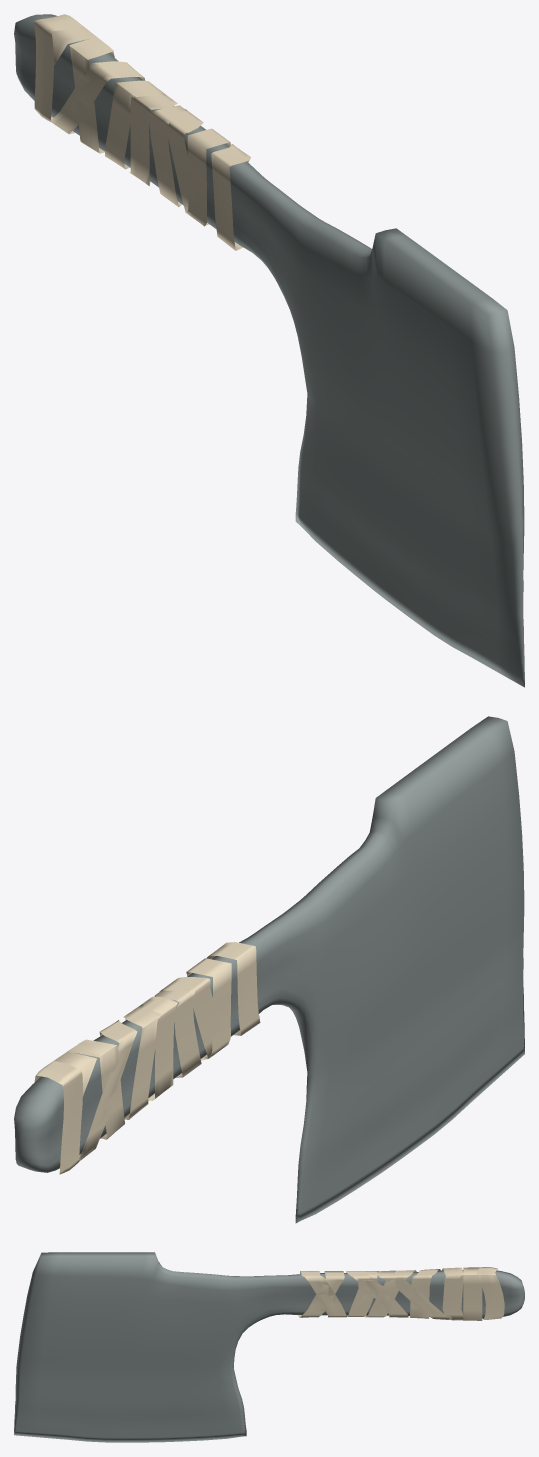
Rendered from ChoppingKnifeV2Fixed.fbx.
The picture shows the model from 3 angles, top to bottom: view 1: azimuth 30°, elevation 25°; view 2: azimuth 150°, elevation 25°; view 3: azimuth 270°, elevation 25°; orthographic projection. The views are drawn at different scales.
Parts seen in each view (by area): view 1: Knife, Bandage; view 2: Knife, Bandage; view 3: Knife, Bandage.
Boxes of the visible parts, x1,y1,x2,y2 form: Knife: [14, 14, 524, 687]; Bandage: [34, 14, 250, 250]; Knife: [14, 716, 524, 1223]; Bandage: [34, 942, 260, 1174]; Knife: [14, 1252, 524, 1442]; Bandage: [297, 1267, 504, 1320].
Bounding box in the file's own units: 5.72 × 59.71 × 147.
